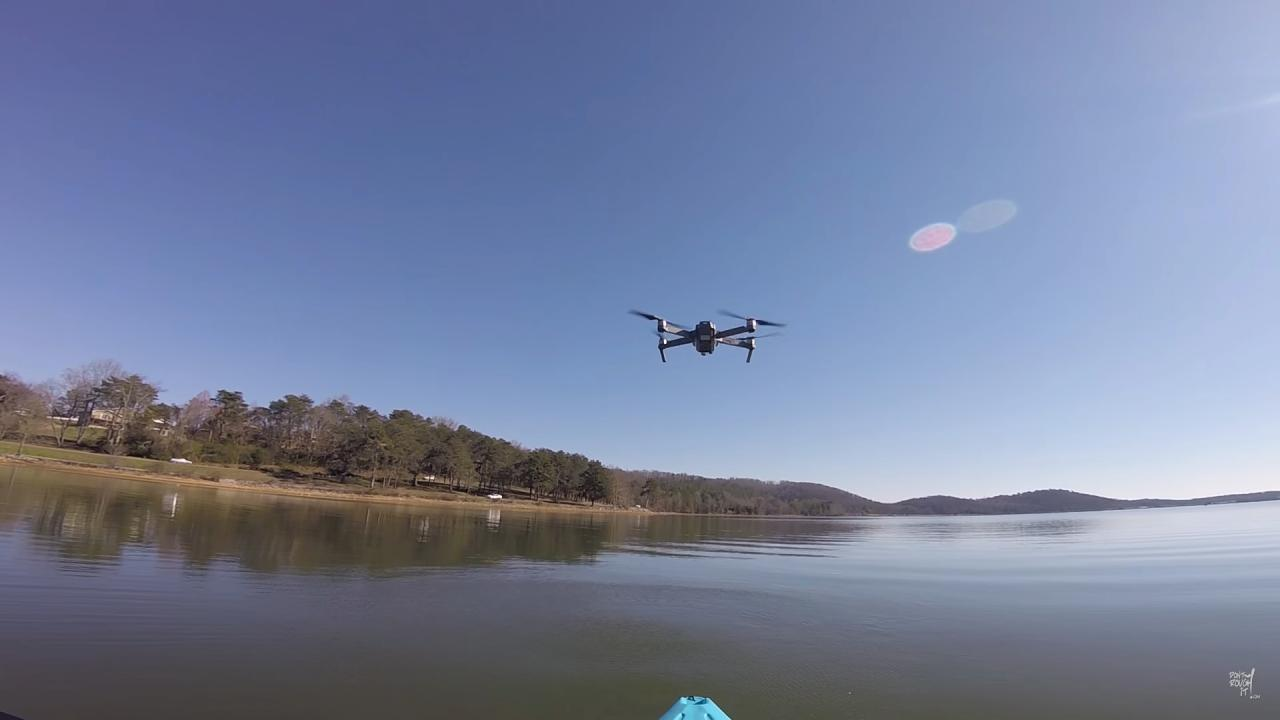Drone: (612, 290, 799, 370)
